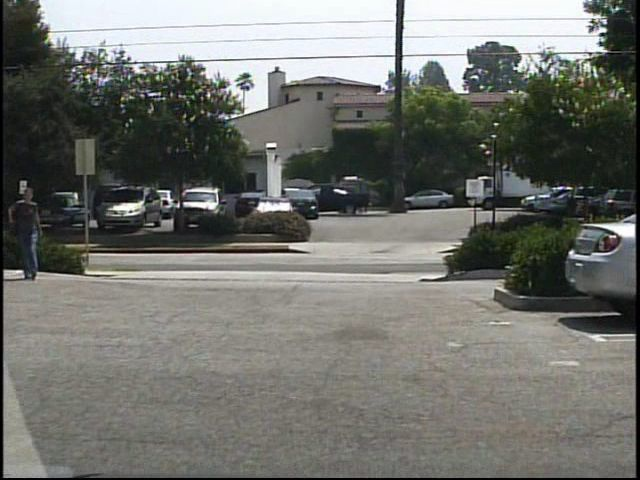person: (11, 186, 51, 280)
